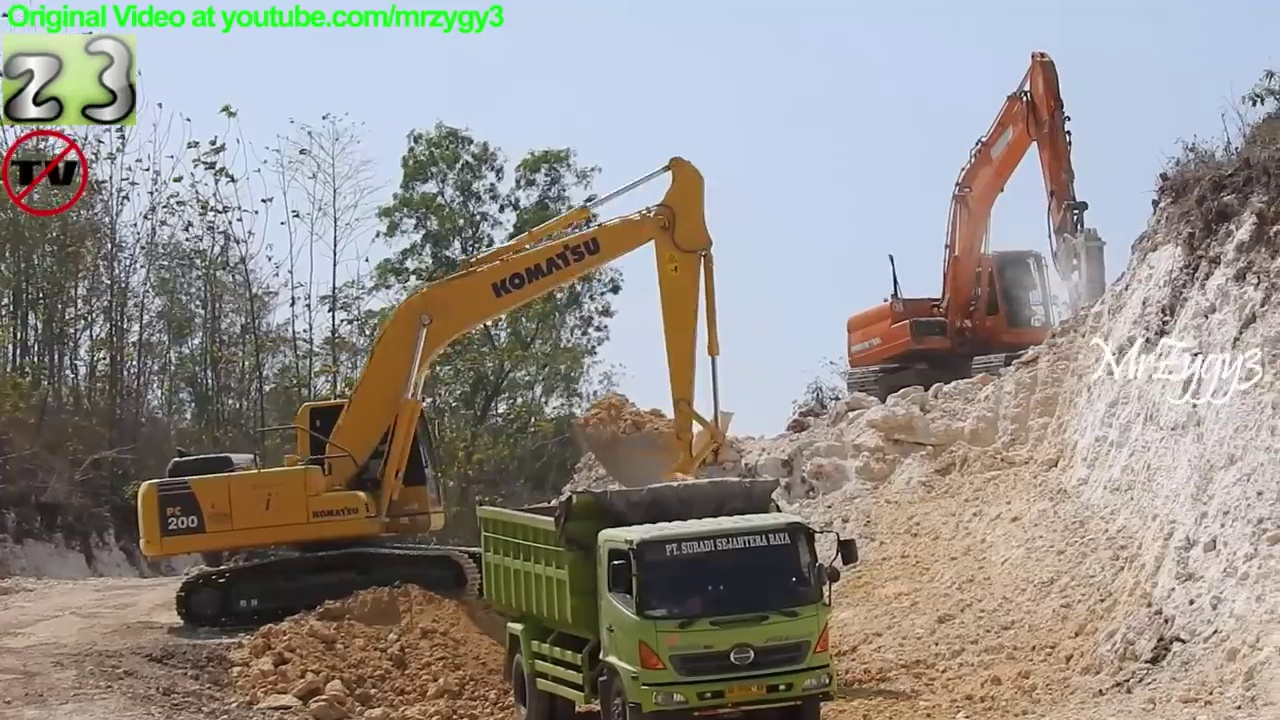excavator: (133, 154, 733, 644), (843, 44, 1119, 421)
truck: (472, 468, 868, 720)
